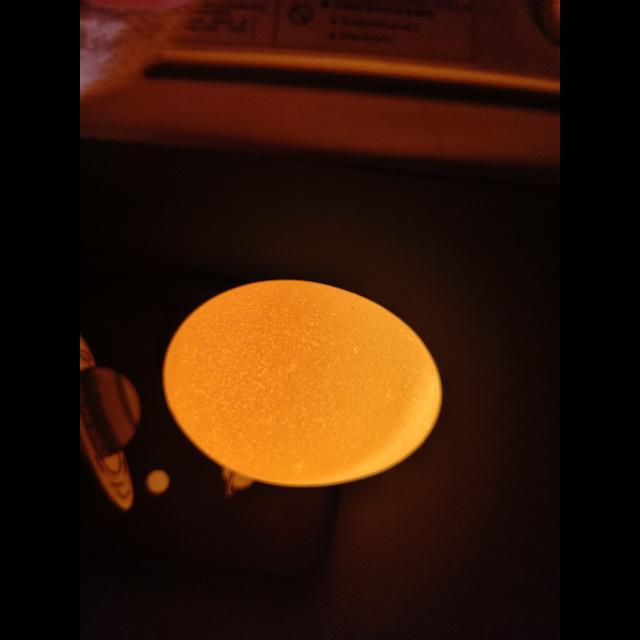AA - Premium: (164, 280, 441, 486)
